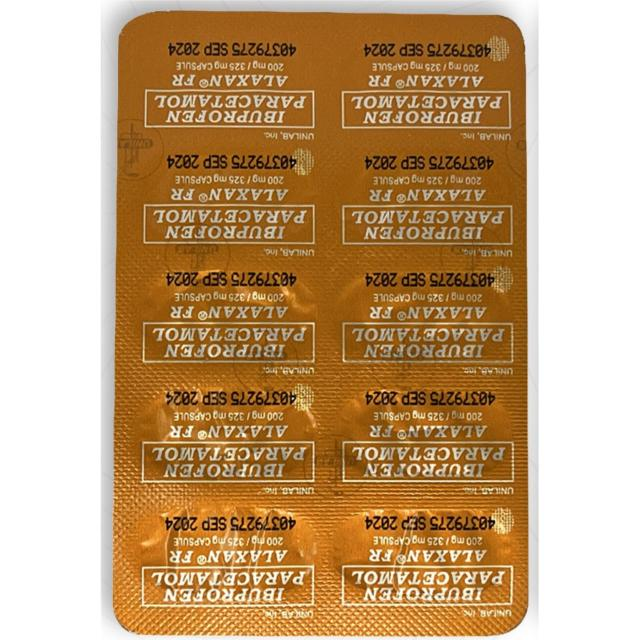blister: (108, 5, 528, 638)
